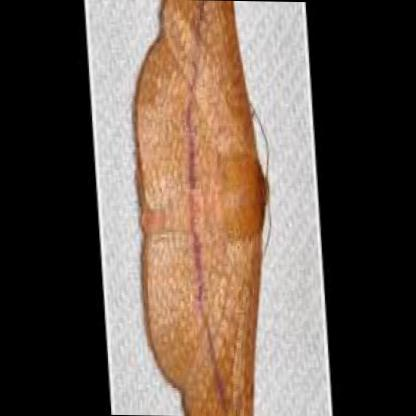Leaf Webber: (132, 0, 272, 413)
